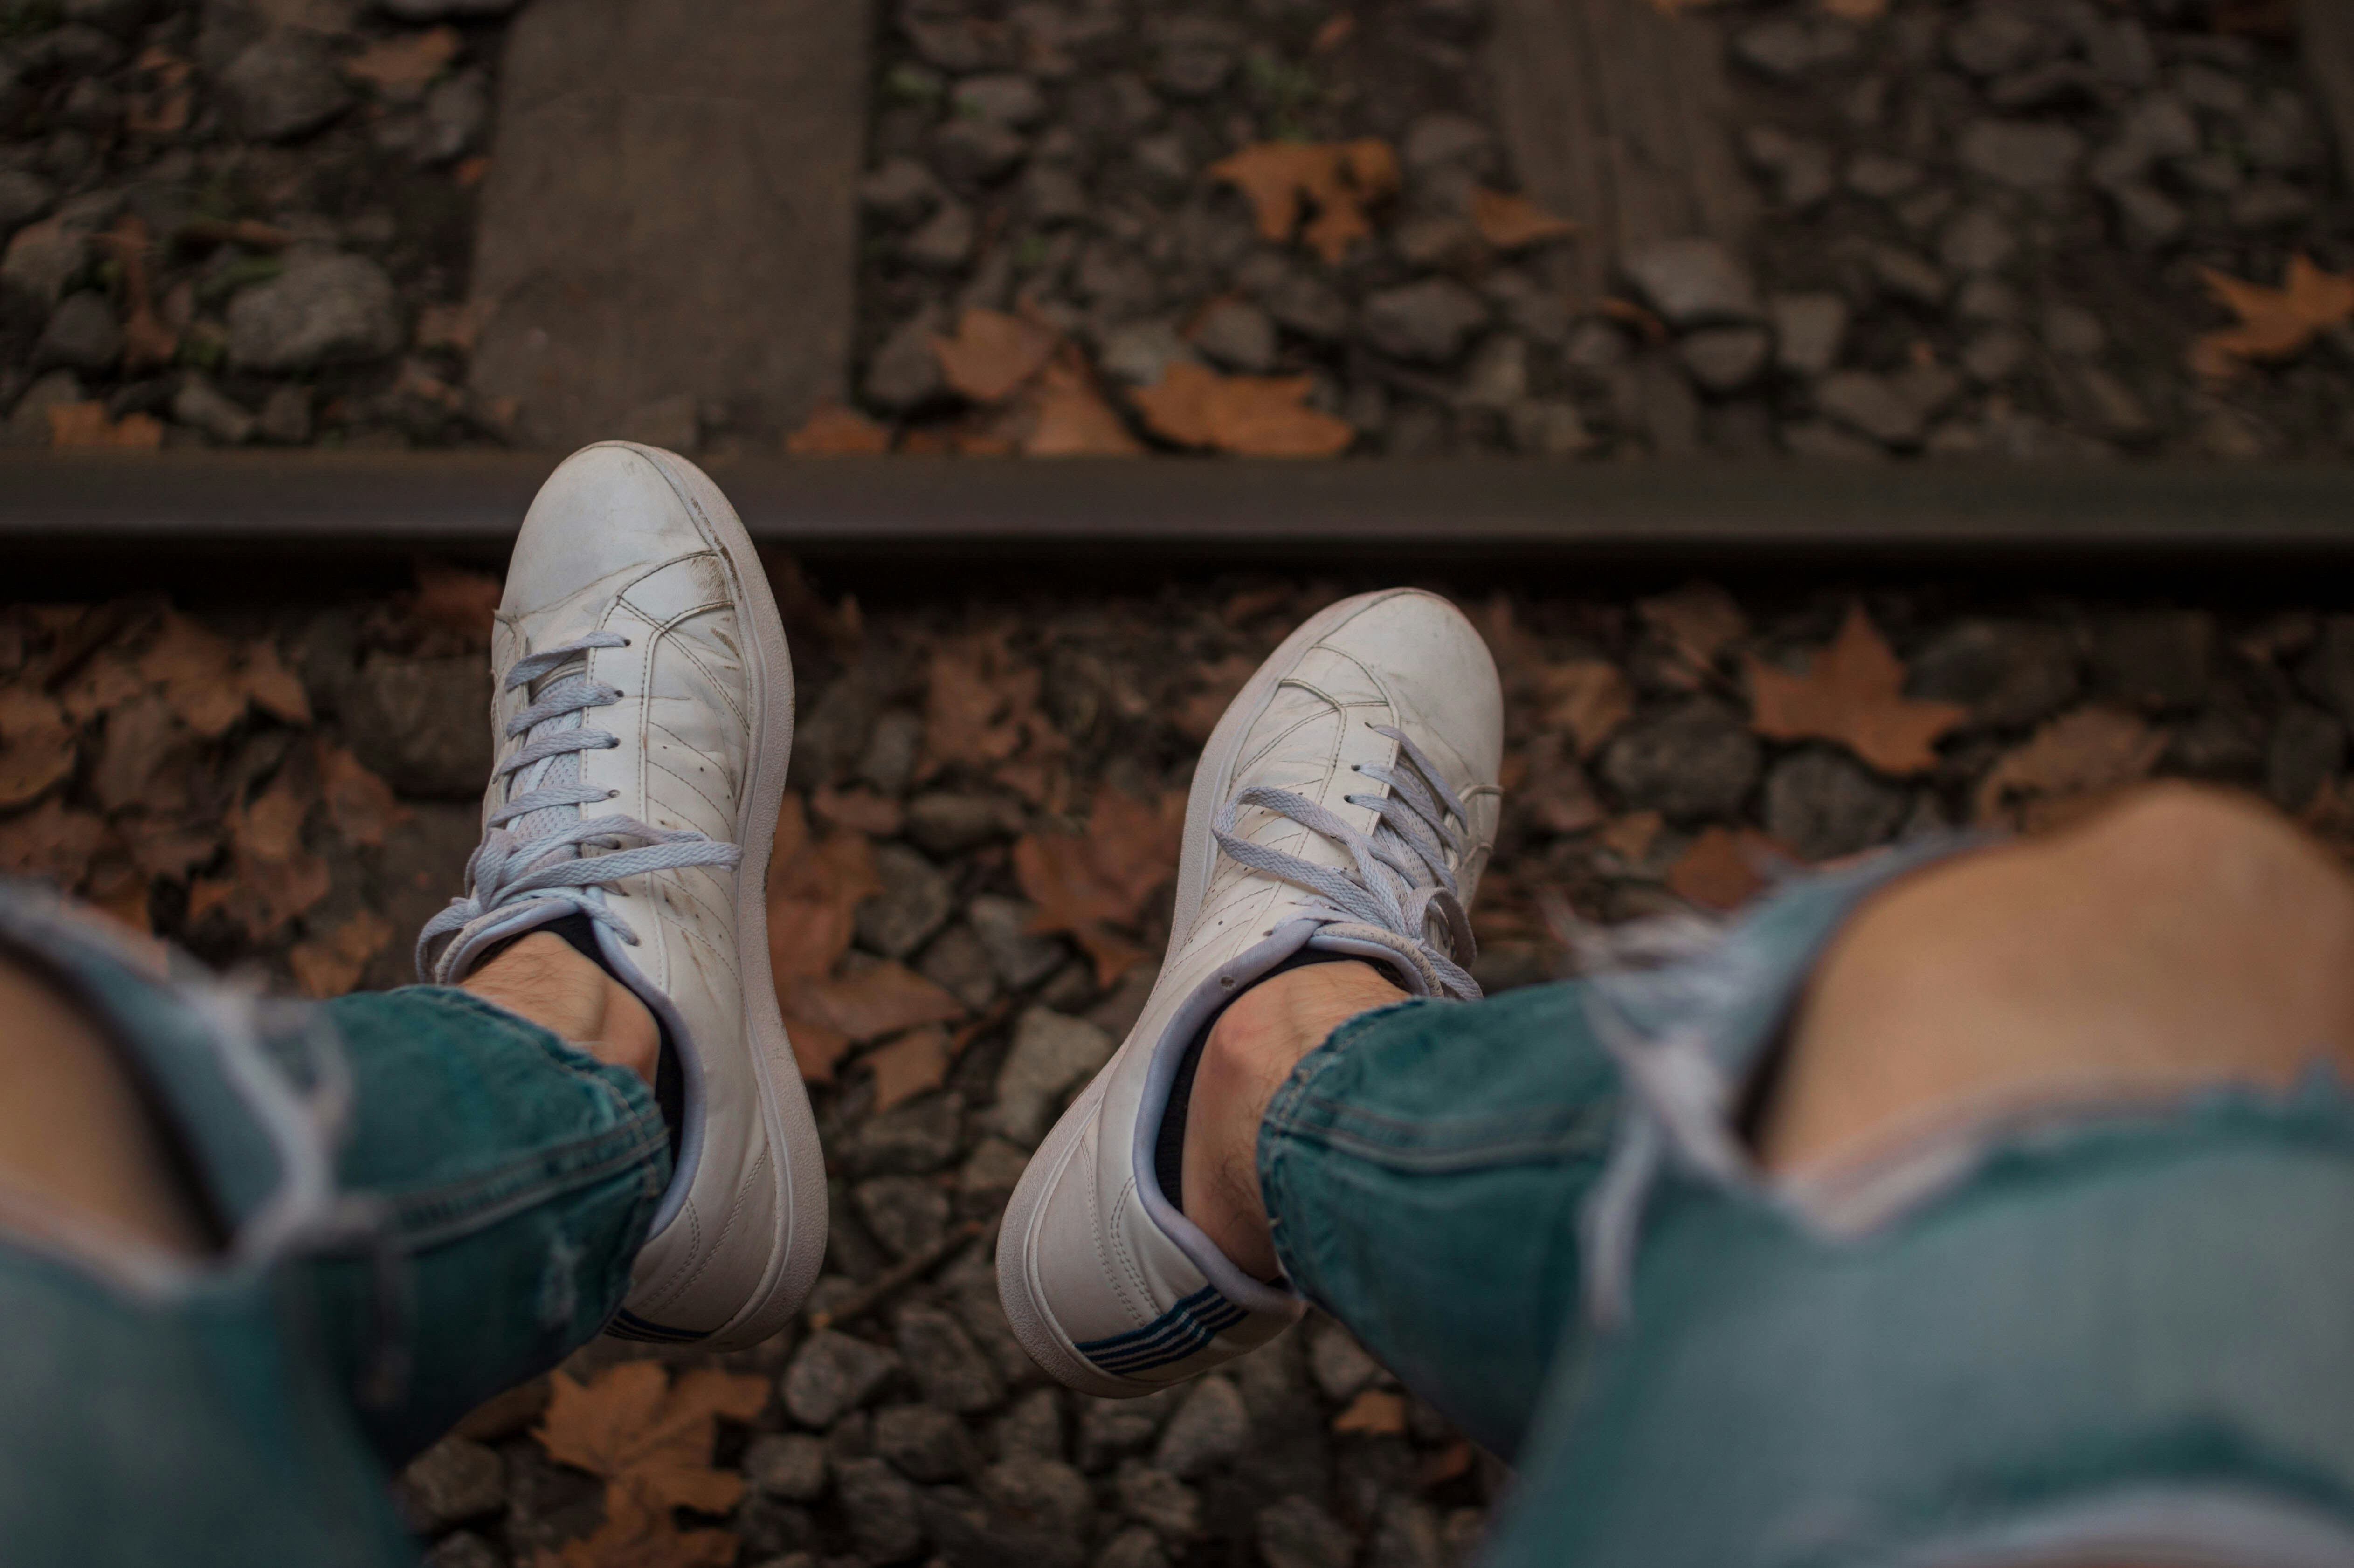Footwear: (396, 418, 844, 1379), (999, 558, 1496, 1388)
